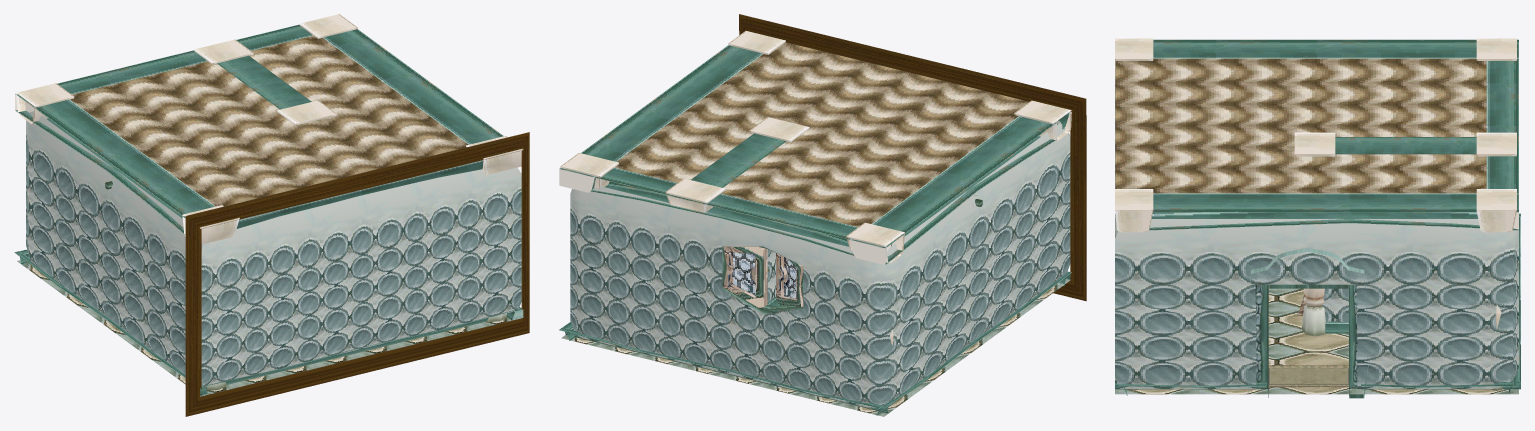
File: room_20.glb
3 renders of one model, left to right at view 1: azimuth 30°, elevation 25°; view 2: azimuth 150°, elevation 25°; view 3: azimuth 270°, elevation 25°, orthographic. The views are drawn at different scales.
Visible parts, largest first — view 1: room_20; view 2: room_20; view 3: room_20.
Part boxes in pixels (x1,y1,x2,y2): room_20: (14, 14, 529, 416); room_20: (559, 14, 1086, 416); room_20: (1115, 38, 1520, 398).
Size of the model in its own units: 1075 by 600 by 1005.
Materials: 18 (18 with a texture image).
